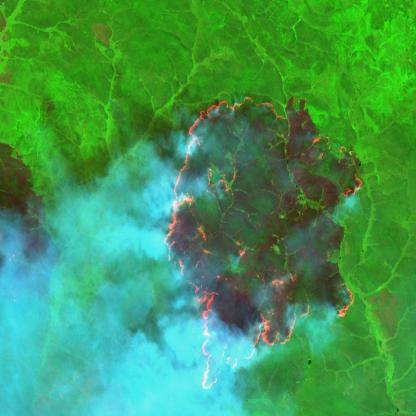fire: (162, 88, 365, 400)
